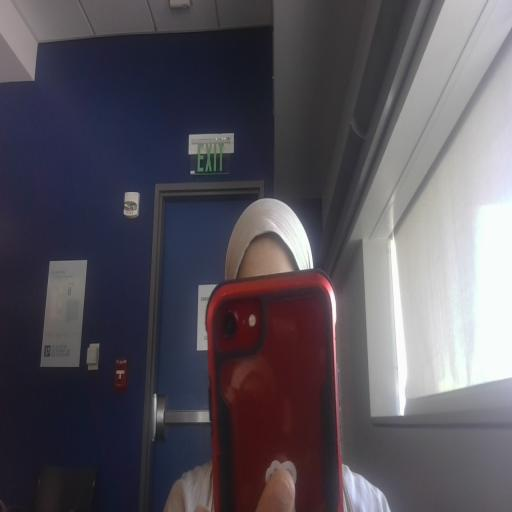phone: (184, 287, 372, 512)
